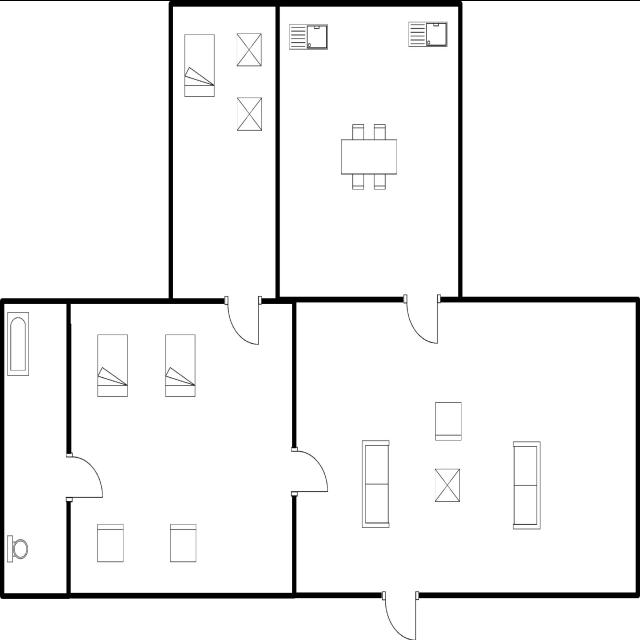bed: (181, 24, 220, 102), (94, 328, 133, 404), (160, 329, 200, 402)
coffee_table: (233, 23, 266, 70), (232, 91, 266, 136), (430, 463, 464, 506)
dining_table: (336, 121, 400, 195)
large_sink: (4, 530, 31, 566)
large_sofa: (358, 434, 394, 534), (509, 435, 545, 534), (166, 516, 202, 566), (92, 518, 127, 568)
sink: (284, 20, 332, 56), (404, 17, 450, 54)
small_sofa: (431, 396, 466, 448)
tub: (5, 306, 33, 378)
